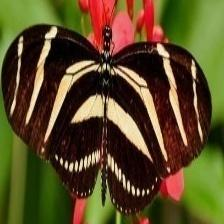butterfly: (2, 25, 212, 215)
